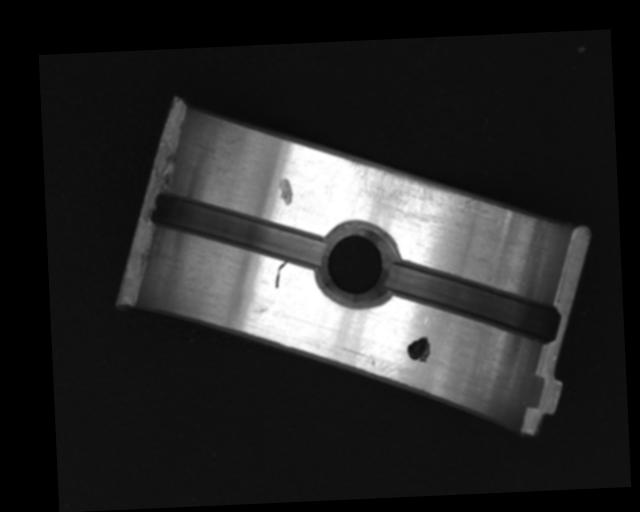blot: (405, 334, 432, 365)
bruise: (277, 176, 294, 208)
gap: (382, 257, 561, 348), (150, 185, 325, 273)
hole: (311, 219, 400, 306)
nick: (273, 260, 289, 288)
scratch: (342, 150, 492, 225)
